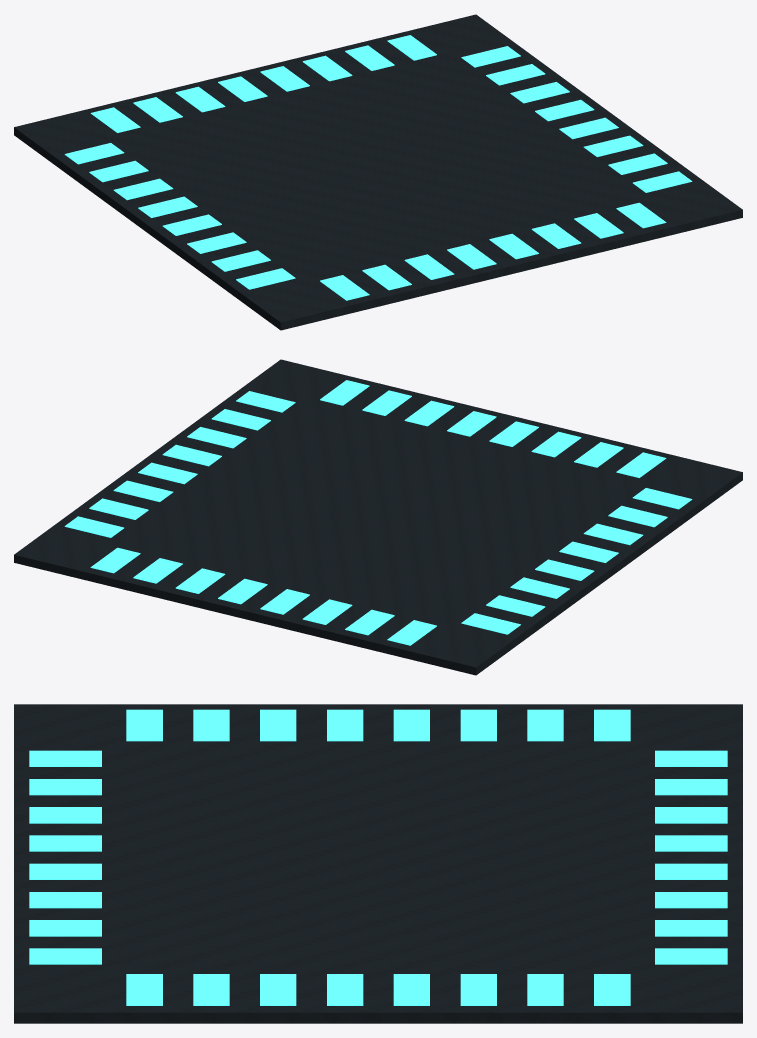
Rendered from Road_Crossroad_12m.glb.
The picture shows the model from 3 angles, top to bottom: view 1: azimuth 30°, elevation 25°; view 2: azimuth 150°, elevation 25°; view 3: azimuth 270°, elevation 25°; orthographic projection. The views are drawn at different scales.
Parts seen in each view (by area): view 1: Road_Crossroad_12m_Surface, Road_Crossroad_12m_Crosswalk_0_-1, Road_Crossroad_12m_Crosswalk_0_1, Road_Crossroad_12m_Crosswalk_1_-1, Road_Crossroad_12m_Crosswalk_1_1; view 2: Road_Crossroad_12m_Surface, Road_Crossroad_12m_Crosswalk_0_-1, Road_Crossroad_12m_Crosswalk_0_1, Road_Crossroad_12m_Crosswalk_1_1, Road_Crossroad_12m_Crosswalk_1_-1; view 3: Road_Crossroad_12m_Surface, Road_Crossroad_12m_Crosswalk_1_-1, Road_Crossroad_12m_Crosswalk_1_1, Road_Crossroad_12m_Crosswalk_0_-1, Road_Crossroad_12m_Crosswalk_0_1.
Boxes of the visible parts, x1,y1,x2,y2 form: Road_Crossroad_12m_Surface: (14,14,742,330); Road_Crossroad_12m_Crosswalk_0_-1: (64,143,295,289); Road_Crossroad_12m_Crosswalk_0_1: (461,46,692,192); Road_Crossroad_12m_Crosswalk_1_-1: (320,202,666,300); Road_Crossroad_12m_Crosswalk_1_1: (90,35,436,132); Road_Crossroad_12m_Surface: (14,359,742,675); Road_Crossroad_12m_Crosswalk_0_-1: (461,488,692,634); Road_Crossroad_12m_Crosswalk_0_1: (64,391,295,537); Road_Crossroad_12m_Crosswalk_1_1: (90,547,436,645); Road_Crossroad_12m_Crosswalk_1_-1: (320,380,666,477); Road_Crossroad_12m_Surface: (14,704,742,1023); Road_Crossroad_12m_Crosswalk_1_-1: (29,750,101,964); Road_Crossroad_12m_Crosswalk_1_1: (655,750,727,964); Road_Crossroad_12m_Crosswalk_0_-1: (126,709,630,741); Road_Crossroad_12m_Crosswalk_0_1: (126,974,630,1005).
Size of the model in its own units: 12 by 0.223 by 12.
Materials: 2 (1 with a texture image).
